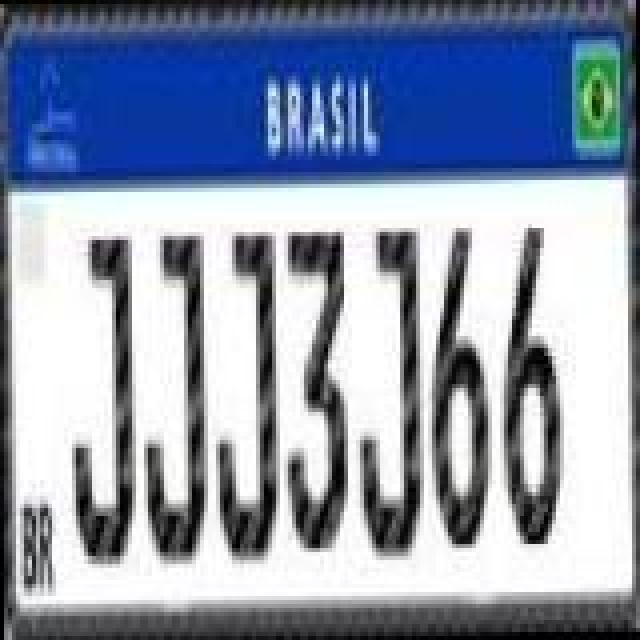3: (280, 228, 348, 552)
6: (424, 226, 492, 550), (496, 222, 564, 546)
J: (70, 236, 142, 572), (142, 232, 214, 568), (214, 232, 286, 568), (356, 228, 424, 564)
